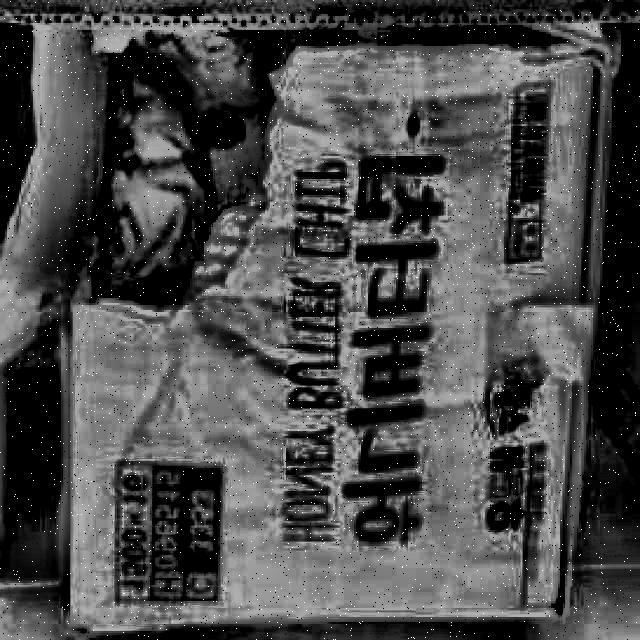box: (0, 5, 626, 633)
hole: (50, 0, 272, 327)
